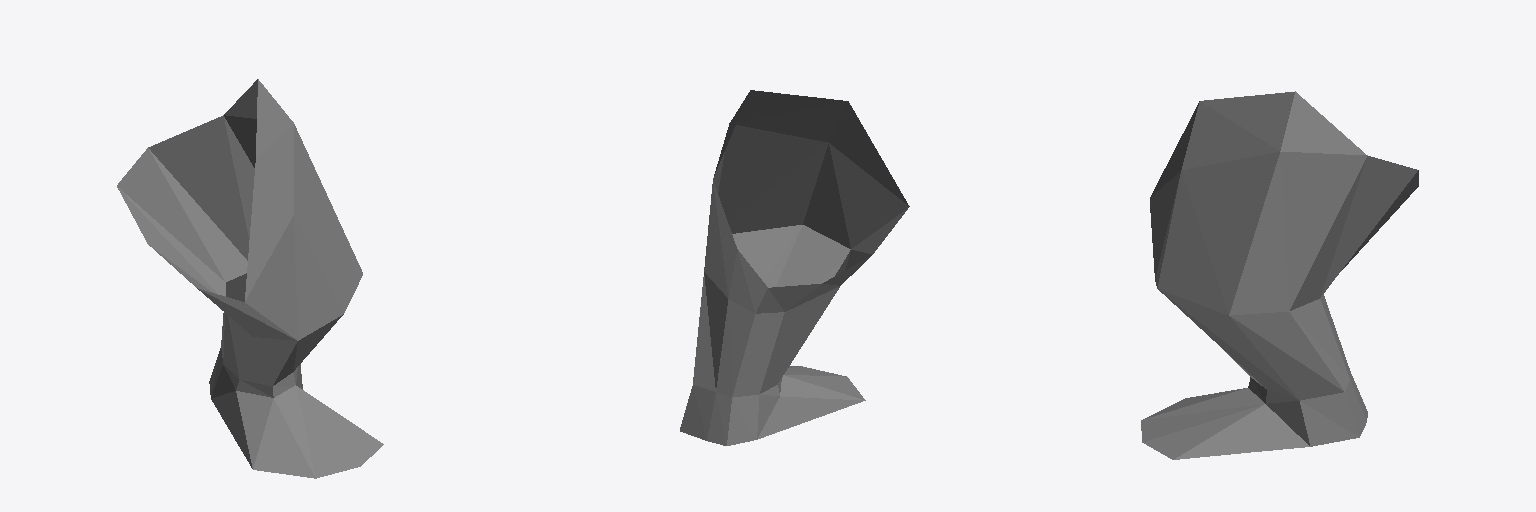
Rendered from Perry_PiernaI.obj.
3 views of the same model, side by side, from view 1: azimuth 30°, elevation 25°; view 2: azimuth 150°, elevation 25°; view 3: azimuth 270°, elevation 25° (orthographic).
Parts seen in each view (by area): view 1: PiernaI; view 2: PiernaI; view 3: PiernaI.
Boxes of the visible parts, box(x1,y1,x2,y2) form: PiernaI: box(117, 79, 383, 478); PiernaI: box(680, 90, 909, 445); PiernaI: box(1141, 91, 1418, 459).
Size of the model in its own units: 0.7599 by 1.5 by 1.12.